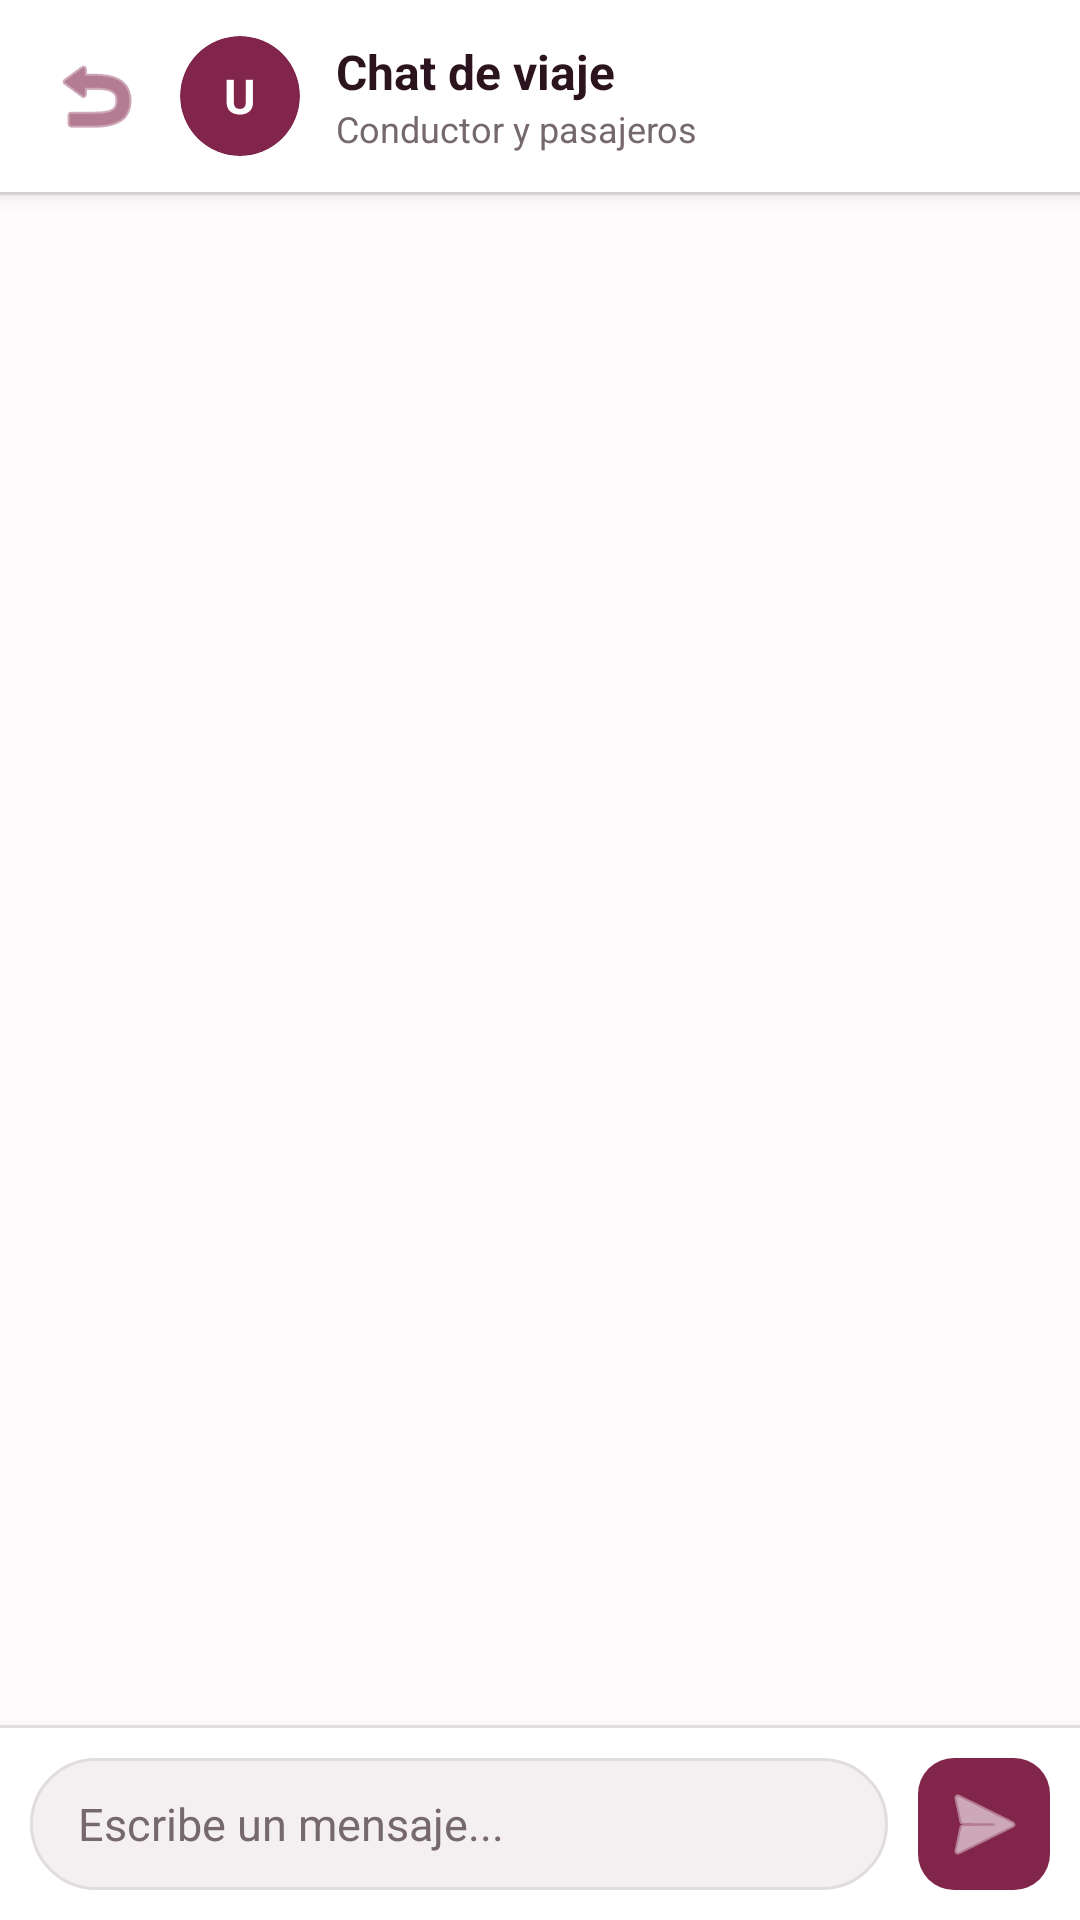

Screen size 1080w x 1920h. Icon name, then its box in pixels as (x1, y1, x2, y2):
Enviar mensaje: (918, 1758, 1050, 1890)
Regresar: (63, 65, 132, 128)
